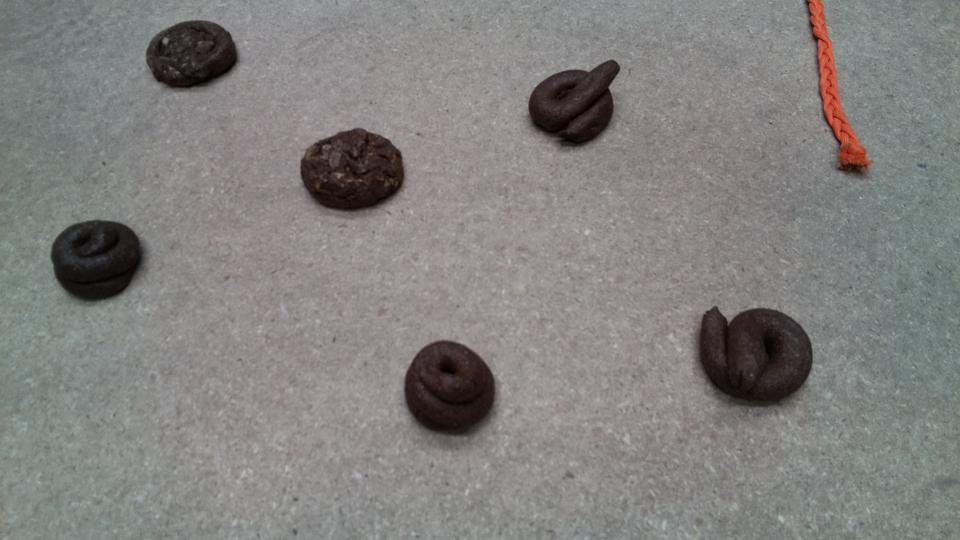poop: (695, 301, 816, 409), (297, 123, 407, 216), (401, 338, 499, 437), (524, 56, 626, 149), (46, 215, 145, 304), (143, 15, 243, 93)
rope: (804, 1, 876, 178)
